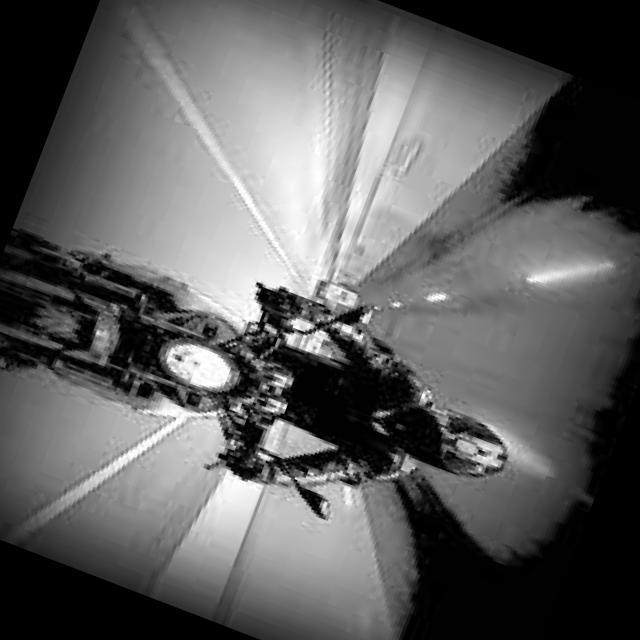WITH_HELMET: (393, 396, 518, 484)
